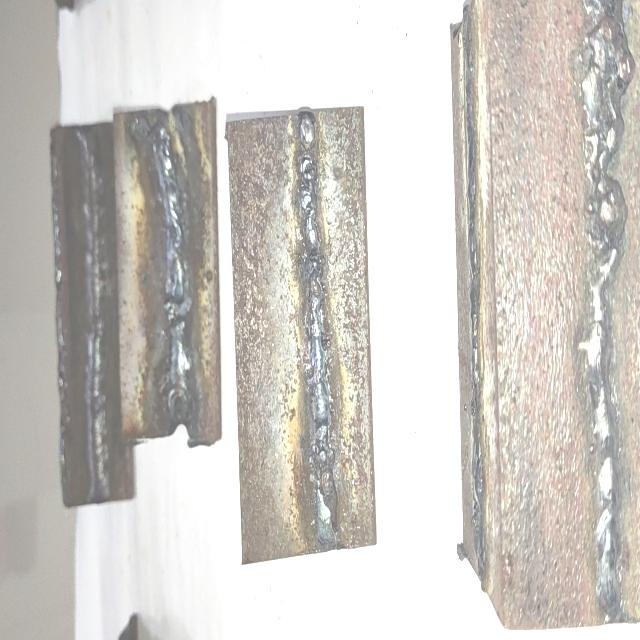Bad Weld: (583, 8, 622, 612), (297, 124, 339, 542), (148, 116, 195, 420)
Defect: (292, 115, 342, 544), (574, 15, 633, 297), (151, 121, 198, 416), (581, 323, 628, 617)
Good Weld: (80, 131, 106, 495)
